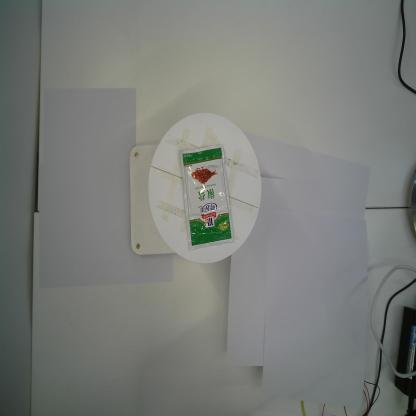Seasoner: (179, 142, 234, 251)
